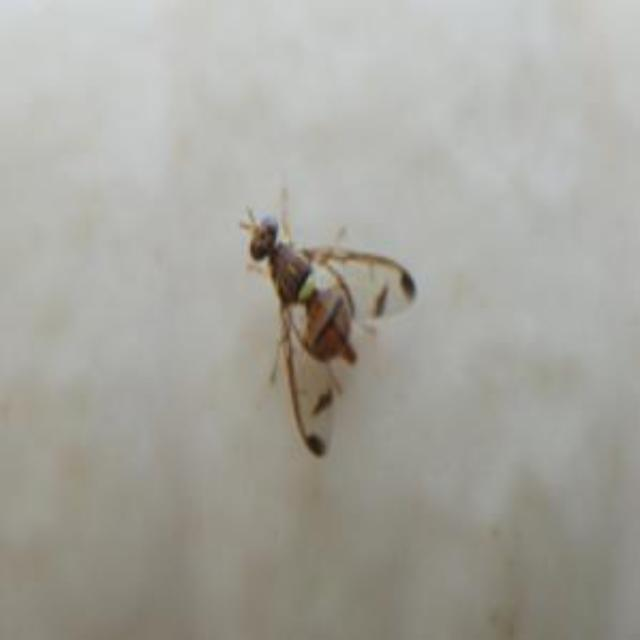melon fly: (190, 151, 430, 457)
